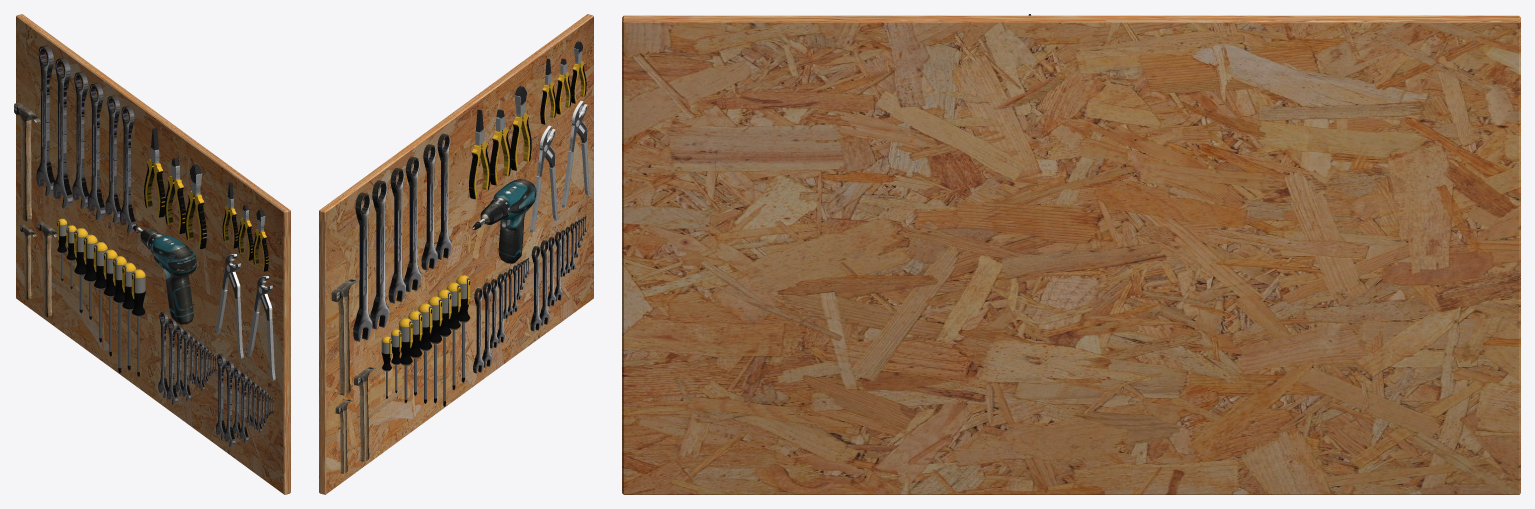
Rendered from tools.glb.
3 renders of one model, left to right at view 1: azimuth 30°, elevation 25°; view 2: azimuth 150°, elevation 25°; view 3: azimuth 270°, elevation 25°, orthographic. The views are drawn at different scales.
Parts seen in each view (by area): view 1: Tools; view 2: Tools; view 3: Tools.
Boxes of the visible parts, x1,y1,x2,y2 form: Tools: [14, 14, 290, 494]; Tools: [319, 14, 593, 494]; Tools: [622, 14, 1520, 494].
Size of the model in its own units: 0.1075 by 0.8219 by 1.41.
8 materials, 8 textured.
